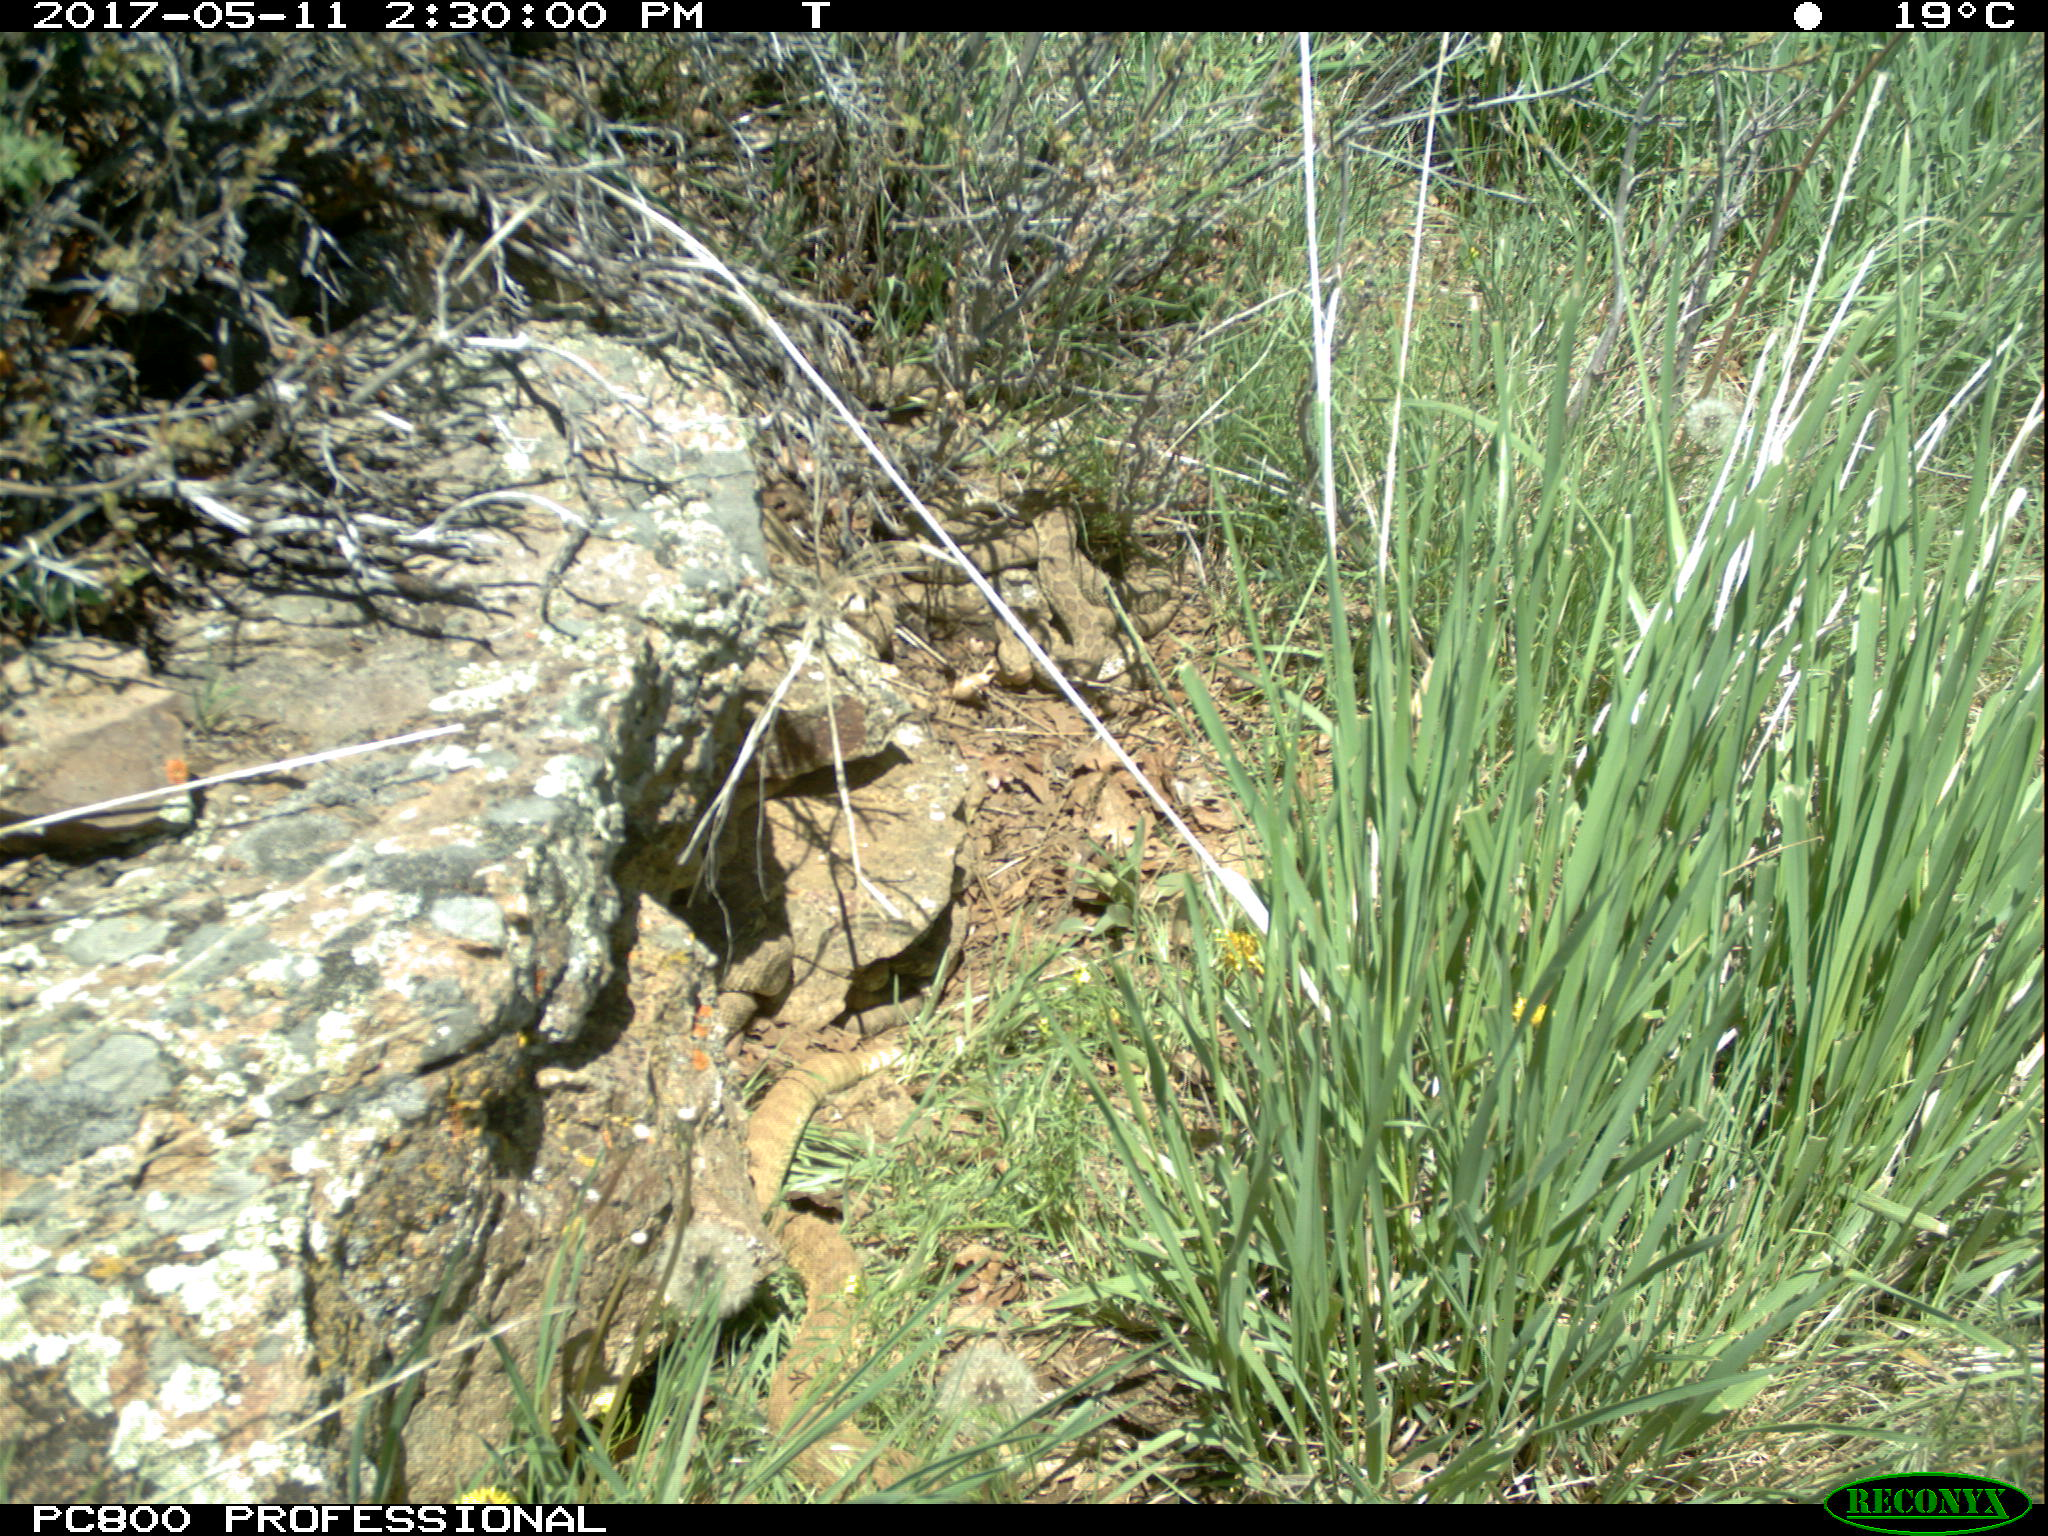snake: (842, 494, 1148, 694), (763, 1208, 889, 1494), (737, 1037, 914, 1221), (1022, 513, 1185, 681)
